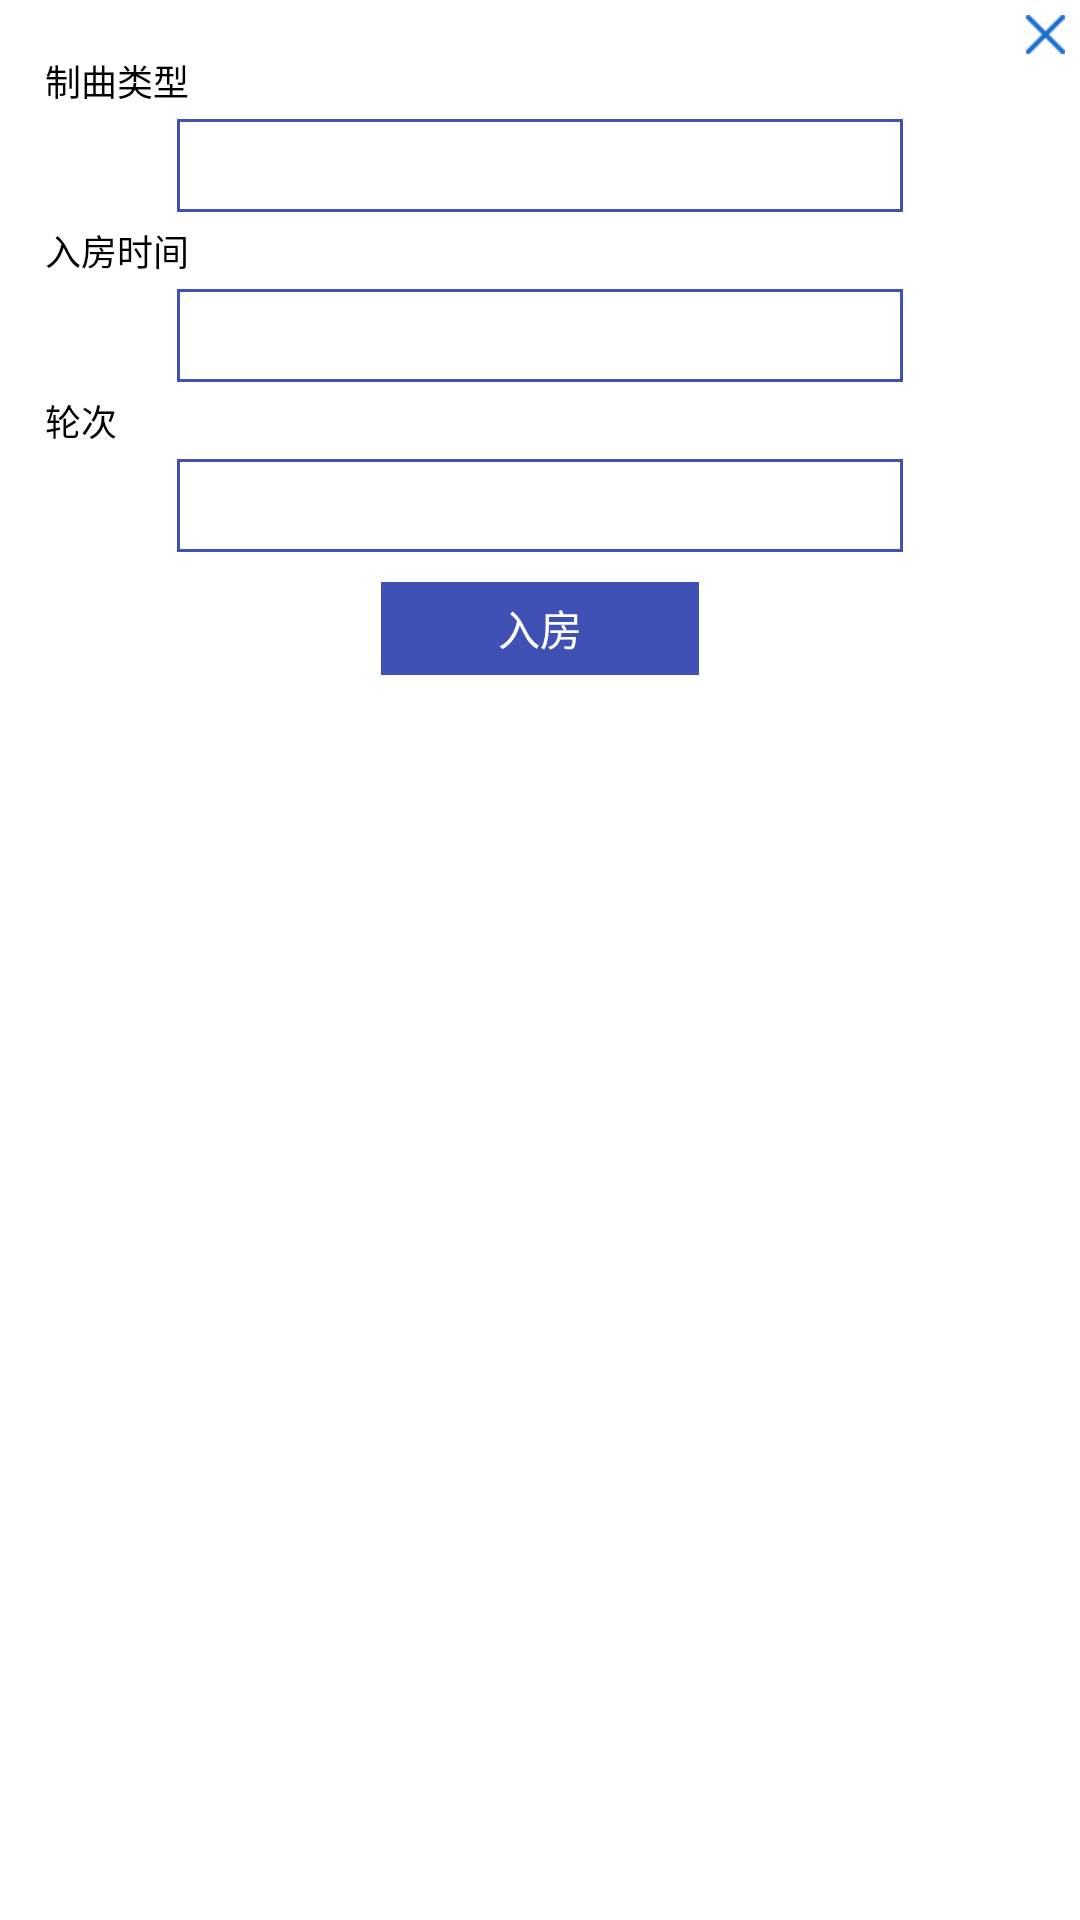

Icons on this 1080 × 1920 Android screen, each with its box as (x1, y1, x2, y2):
guanbi: (1026, 15, 1065, 54)
